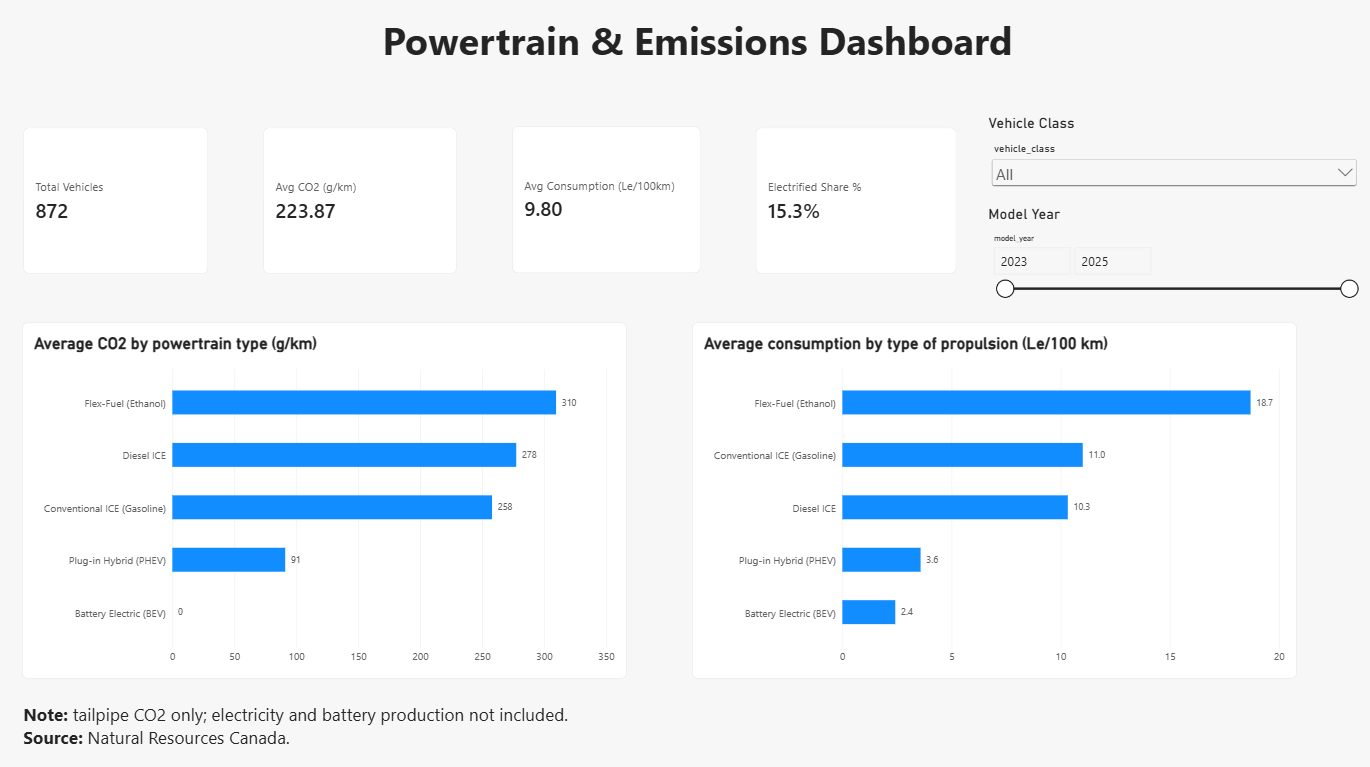

What the dashboard file says about the page in this screenshot:
{"tool":"powerbi","page":{"name":"Page 1","canvas":[1920,1080],"ordinal":0},"visuals":[{"type":"cardVisual","fields":{"Data":["analytics.Total Vehicles"]},"box":[36.6,177.9,258.1,204.1],"z":0},{"type":"cardVisual","fields":{"Data":["analytics.Avg CO2 (g/km)"]},"box":[371.5,177.9,270.3,204.1],"z":1000},{"type":"cardVisual","fields":{"Data":["analytics.Avg Consumption (Le/100km)"]},"box":[718.6,176.2,263.4,205.8],"z":2000},{"type":"cardVisual","fields":{"Data":["analytics.Electrified Share %"]},"box":[1058.7,177.9,280.8,204.1],"z":3000},{"type":"barChart","title":"Average CO2 by powertrain type (g/km)","fields":{"Category":["analytics.powertrain_type"],"Y":["analytics.Avg CO2 (g/km)"]},"box":[34.9,450,844.2,497.1],"z":4000},{"type":"barChart","title":"Average consumption by type of propulsion (Le/100 km)","fields":{"Category":["analytics.powertrain_type"],"Y":["analytics.Avg Consumption (Le/100km)"]},"box":[969.8,450,844.2,497.1],"z":5000},{"type":"slicer","title":"Vehicle Class","fields":{"Values":["analytics.vehicle_class"]},"box":[1383.1,158.7,519.8,120.3],"z":5001},{"type":"slicer","title":"Model Year","fields":{"Values":["analytics.model_year"]},"box":[1383.1,286,519.8,151.7],"z":5002},{"type":"textbox","box":[34.9,19.2,1885.5,139.5],"z":5003},{"type":"textbox","box":[36.6,980.2,1030.8,99.4],"z":5005}]}

Visuals, with their boxes in screenshot pixels (x1, y1, x2, y2), scaled from the page's 1920x1080 canvas onto the 1370x767 screenshot:
cardVisual - analytics.Total Vehicles: bbox=[26, 126, 210, 271]
cardVisual - analytics.Avg CO2 (g/km): bbox=[265, 126, 458, 271]
cardVisual - analytics.Avg Consumption (Le/100km): bbox=[513, 125, 701, 271]
cardVisual - analytics.Electrified Share %: bbox=[755, 126, 956, 271]
"Average CO2 by powertrain type (g/km)" barChart: bbox=[25, 320, 627, 673]
"Average consumption by type of propulsion (Le/100 km)" barChart: bbox=[692, 320, 1294, 673]
"Vehicle Class" slicer: bbox=[987, 113, 1358, 198]
"Model Year" slicer: bbox=[987, 203, 1358, 311]
textbox: bbox=[25, 14, 1369, 113]
textbox: bbox=[26, 696, 762, 766]
